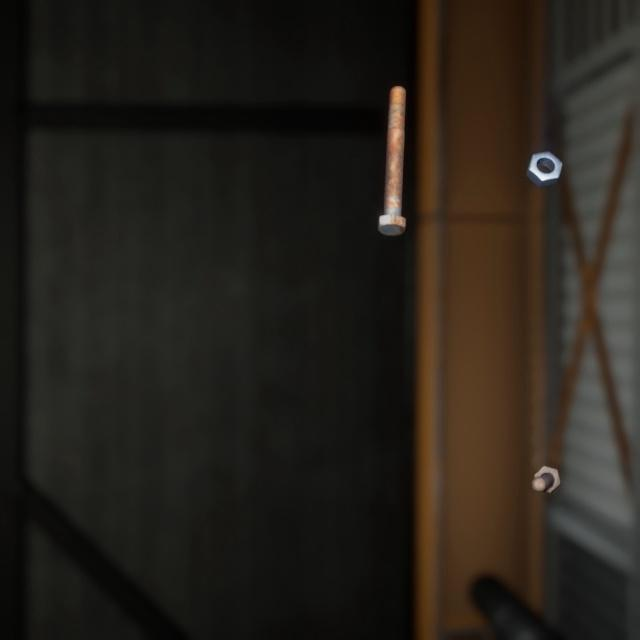bolt: (373, 69, 410, 227), (526, 440, 565, 477)
nut: (521, 133, 566, 178)
